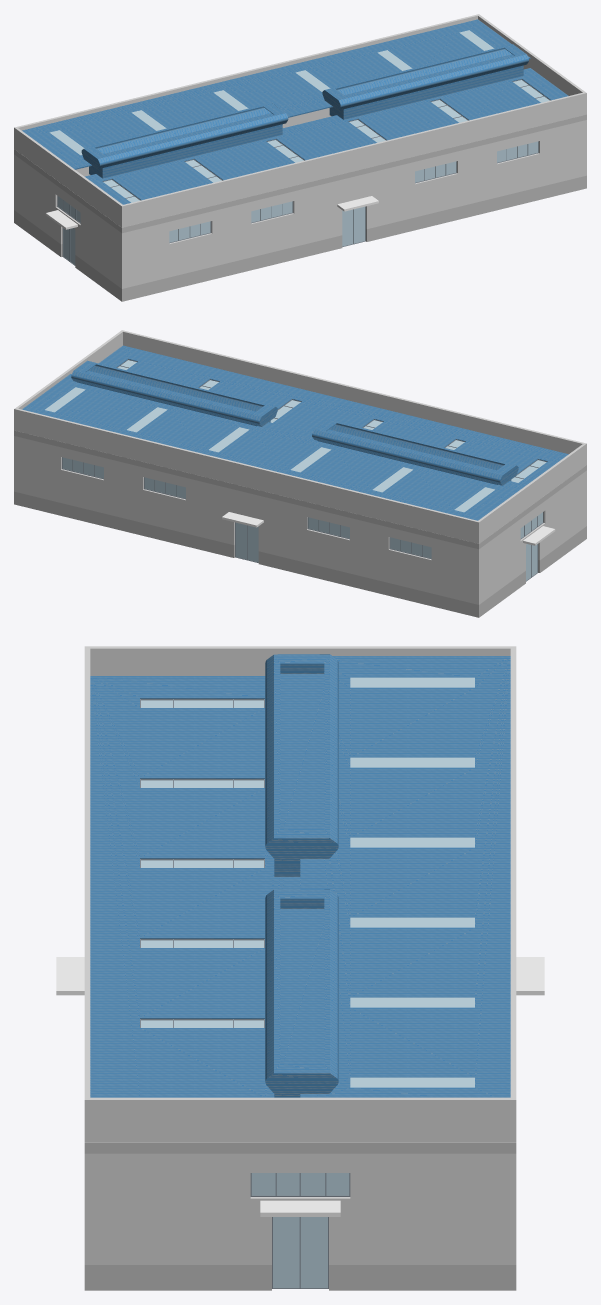
3 views of the same model, one above another, from view 1: azimuth 30°, elevation 25°; view 2: azimuth 150°, elevation 25°; view 3: azimuth 270°, elevation 25° (orthographic). The views are drawn at different scales.
Parts seen in each view (by area): view 1: 厂房56; view 2: 厂房56; view 3: 厂房56.
Part boxes in pixels (x1,y1,x2,y2): 厂房56: [14, 14, 586, 301]; 厂房56: [14, 330, 586, 617]; 厂房56: [56, 646, 544, 1290].
Bounding box in the file's own units: 47.78 × 9.57 × 20.64.
Materials: 6 (1 with a texture image).
